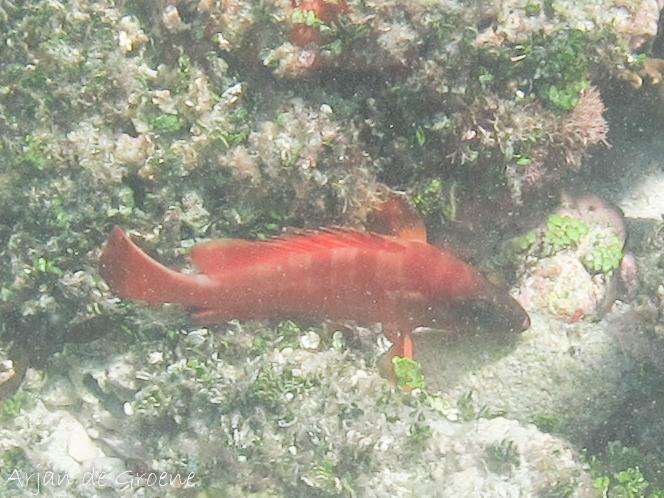Fish: (80, 134, 569, 394)
